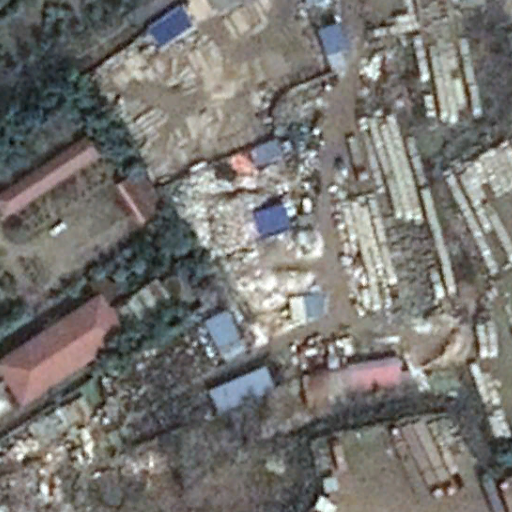msw: (176, 143, 320, 338)
